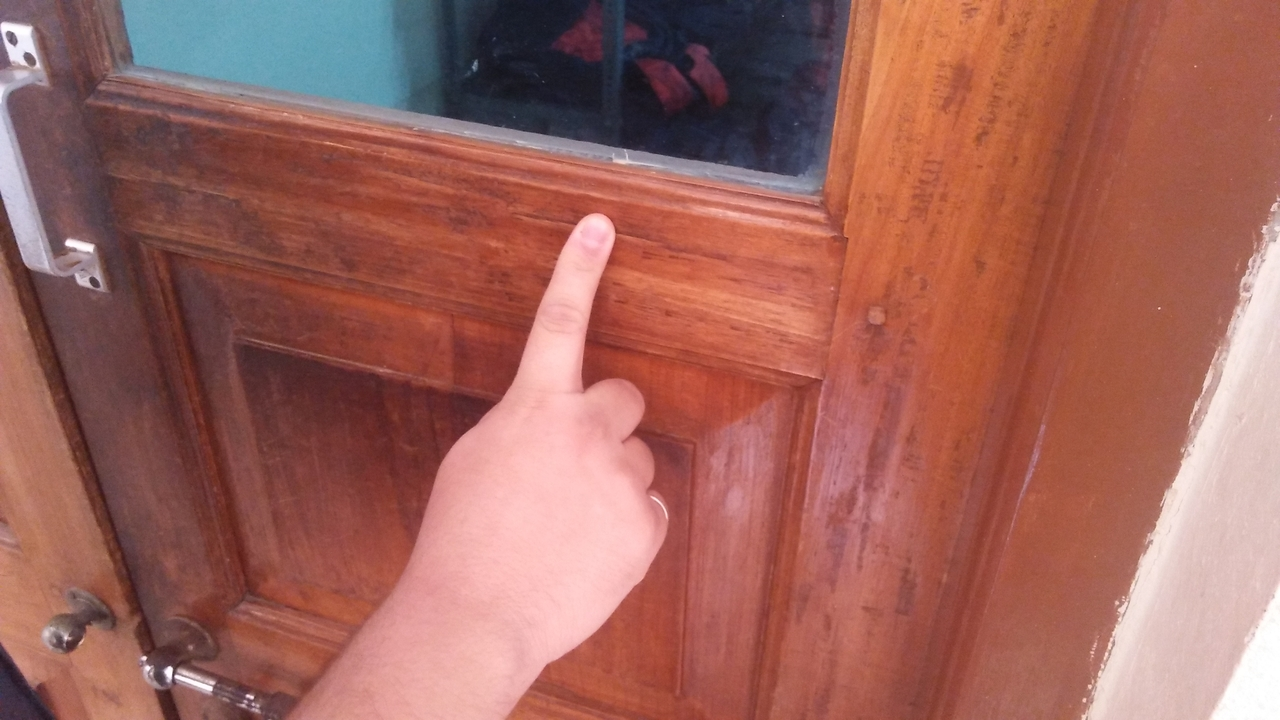fingertip: (558, 198, 624, 262)
